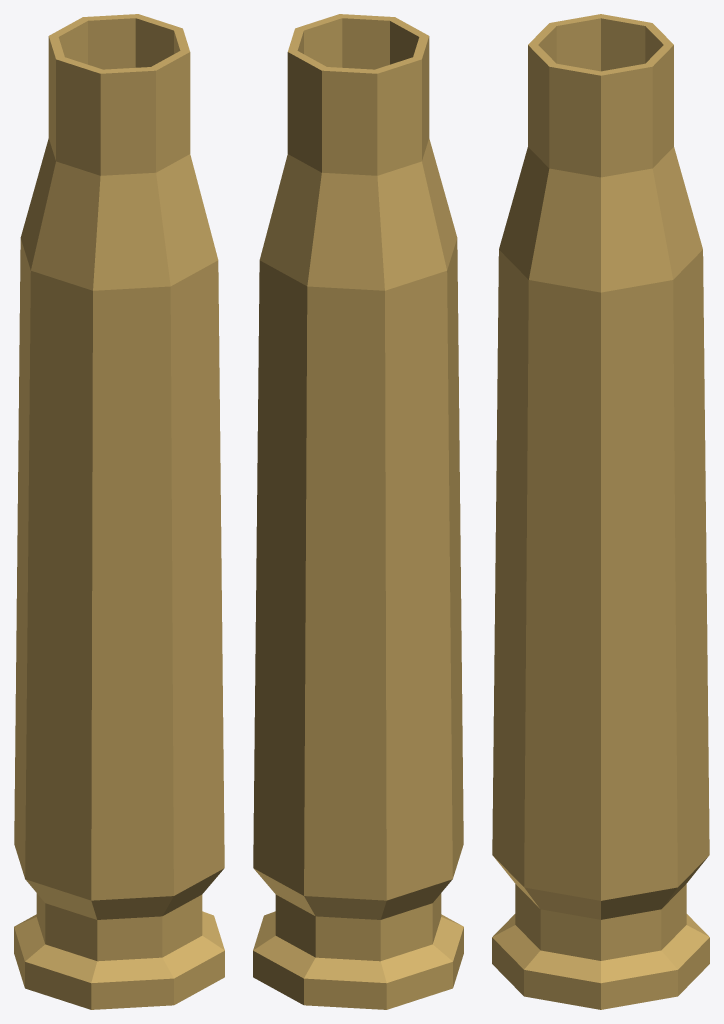
File: case_556x45.glb
3 renders of one model, left to right at view 1: azimuth 30°, elevation 25°; view 2: azimuth 150°, elevation 25°; view 3: azimuth 270°, elevation 25°, orthographic.
Parts seen in each view (by area): view 1: case_556x45; view 2: case_556x45; view 3: case_556x45.
Boxes of the visible parts, left/top/right/bottom form: case_556x45: left=14, top=14, right=224, bottom=1009; case_556x45: left=253, top=14, right=463, bottom=1009; case_556x45: left=492, top=14, right=709, bottom=1009.
Bounding box in the file's own units: 0.0096 × 0.0447 × 0.0096.
